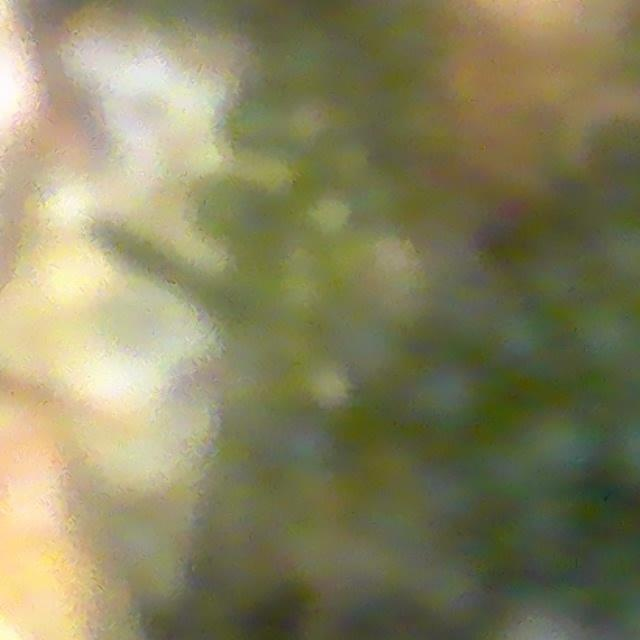SeaGrape: (525, 407, 604, 485), (409, 361, 490, 434), (570, 297, 640, 376)
